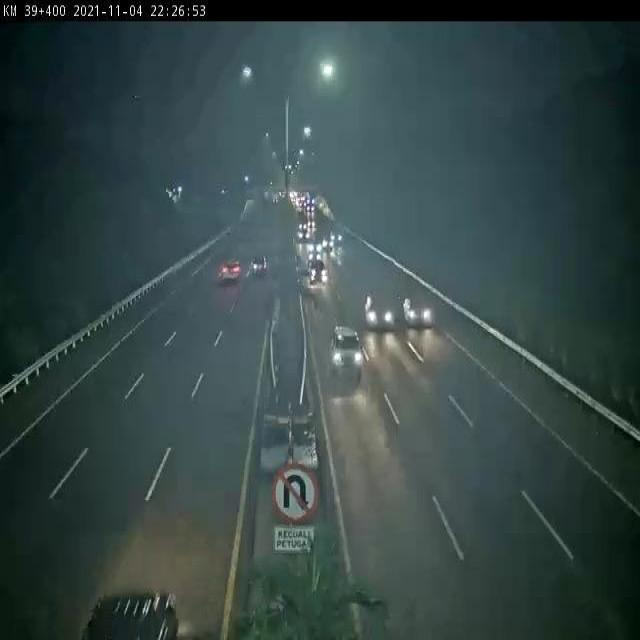car: (86, 592, 185, 640), (328, 321, 366, 388), (396, 277, 438, 327), (361, 285, 397, 331)
